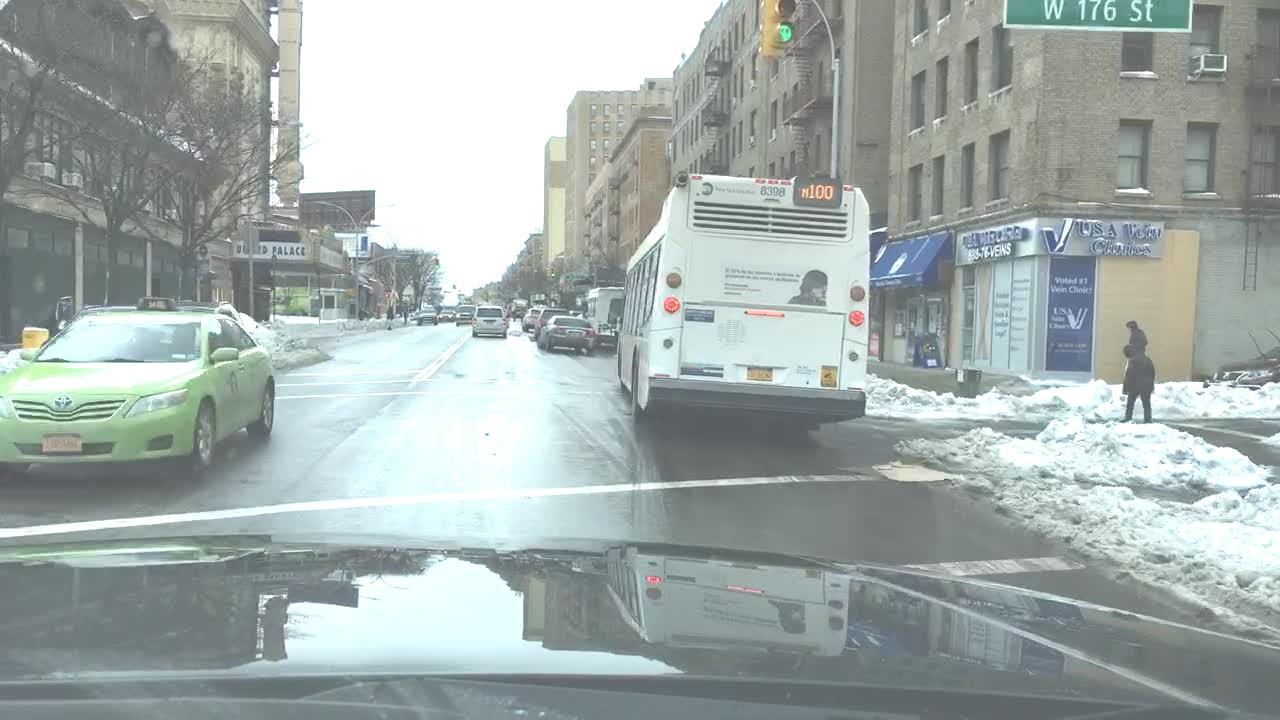Toyota: (51, 392, 78, 413)
